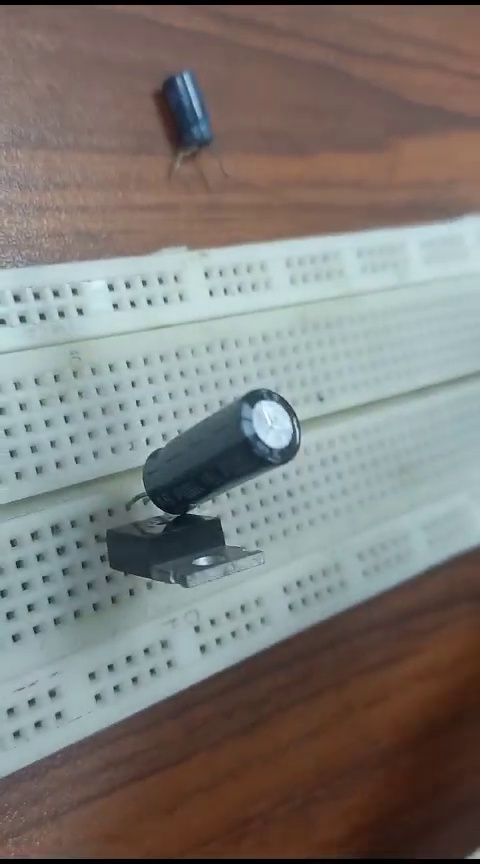capacitor: (128, 385, 307, 507), (146, 65, 240, 185)
voltage regulator: (100, 513, 275, 596)
